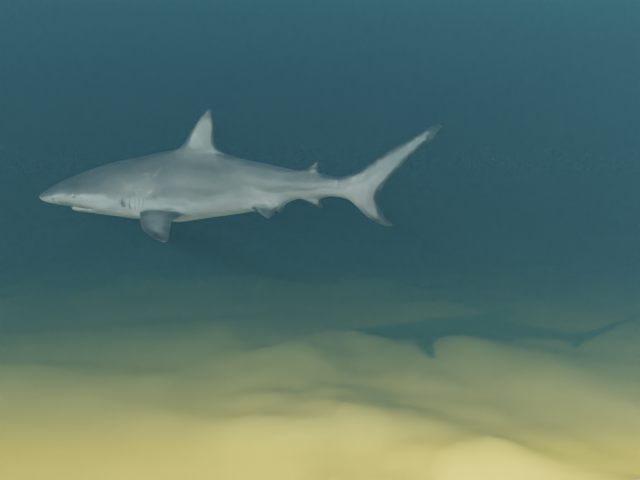Carribean Shark.001: (39, 109, 442, 242)
